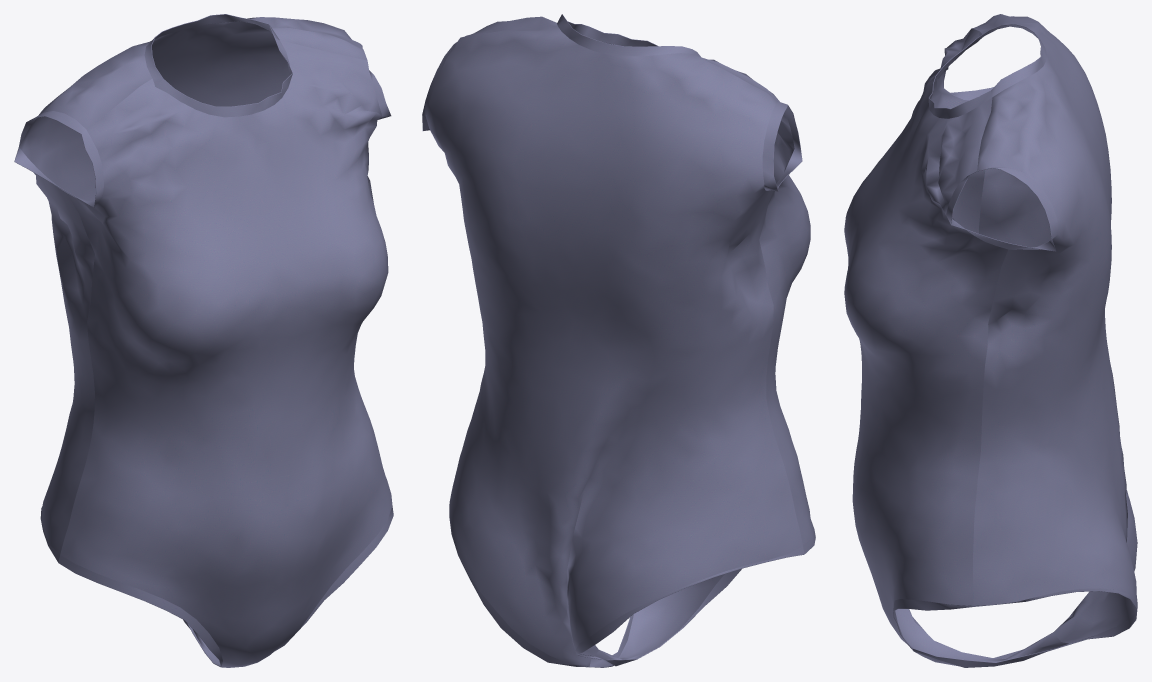
3 renders of one model, left to right at view 1: azimuth 30°, elevation 25°; view 2: azimuth 150°, elevation 25°; view 3: azimuth 270°, elevation 25°, orthographic. The views are drawn at different scales.
Parts seen in each view (by area): view 1: Pattern2D_3238331, Pattern2D_3236131, Pattern2D_12635, Pattern2D_3238332, Pattern2D_10739, Pattern2D_10728, Pattern2D_3238333; view 2: Pattern2D_3236131, Pattern2D_3238331, Pattern2D_12635, Pattern2D_3238332, Pattern2D_10728, Pattern2D_3238333, Pattern2D_10739; view 3: Pattern2D_3236131, Pattern2D_3238331, Pattern2D_3238333, Pattern2D_11019, Pattern2D_10728, Pattern2D_10739.
Boxes of the visible parts, x1,y1,x2,y2 form: Pattern2D_3238331: (60, 40, 392, 667); Pattern2D_3236131: (20, 17, 367, 554); Pattern2D_12635: (40, 507, 222, 667); Pattern2D_3238332: (14, 111, 103, 207); Pattern2D_10739: (155, 38, 292, 117); Pattern2D_10728: (144, 14, 279, 86); Pattern2D_3238333: (286, 505, 393, 643); Pattern2D_3236131: (426, 16, 802, 666); Pattern2D_3238331: (589, 42, 814, 667); Pattern2D_12635: (575, 529, 815, 666); Pattern2D_3238332: (762, 102, 802, 191); Pattern2D_10728: (557, 14, 701, 57); Pattern2D_3238333: (449, 499, 633, 667); Pattern2D_10739: (568, 21, 658, 46); Pattern2D_3236131: (972, 14, 1137, 643); Pattern2D_3238331: (844, 28, 1068, 667); Pattern2D_3238333: (893, 588, 1137, 667); Pattern2D_11019: (946, 167, 1058, 251); Pattern2D_10728: (976, 24, 1046, 96); Pattern2D_10739: (928, 39, 992, 118).
Size of the model in its own units: 39.69 by 68.3 by 29.38.
